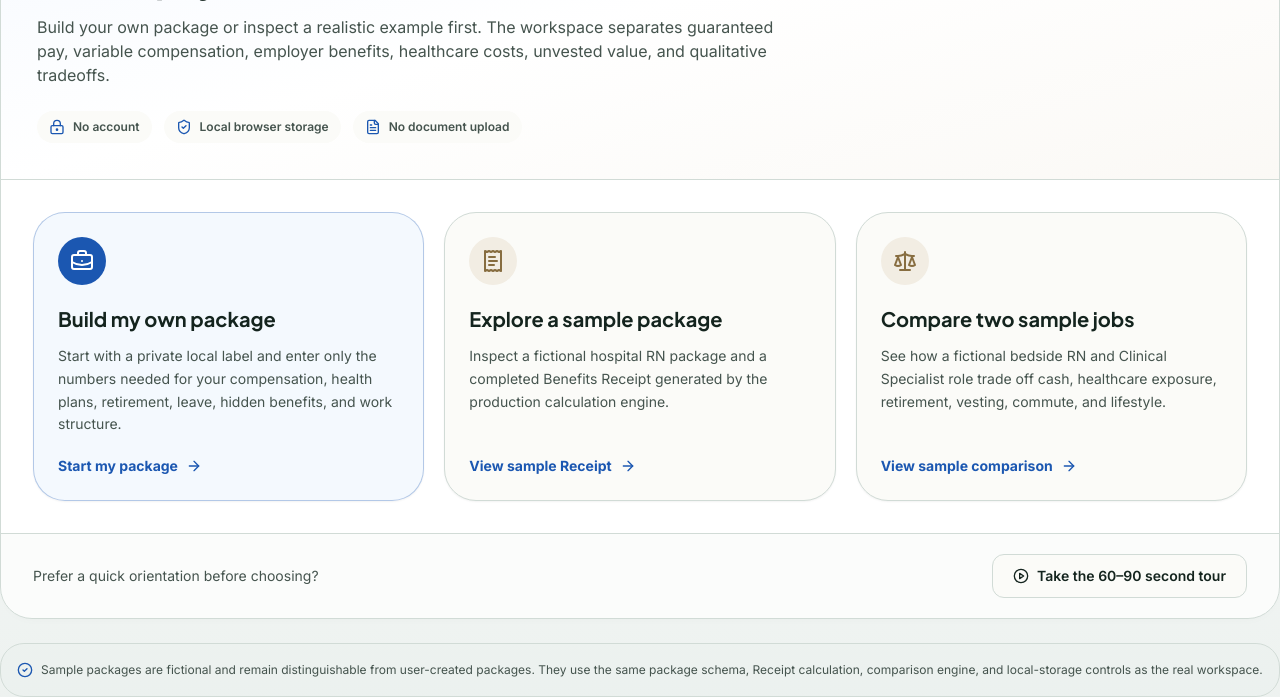
Scenario: BenefitsCommandCenterActivation › offers a keyboard-accessible tour and persists a skipped state
(page scrolled)
Click the button "Take the 60–90 second tour": [1120, 576] box [992, 554, 1247, 598]
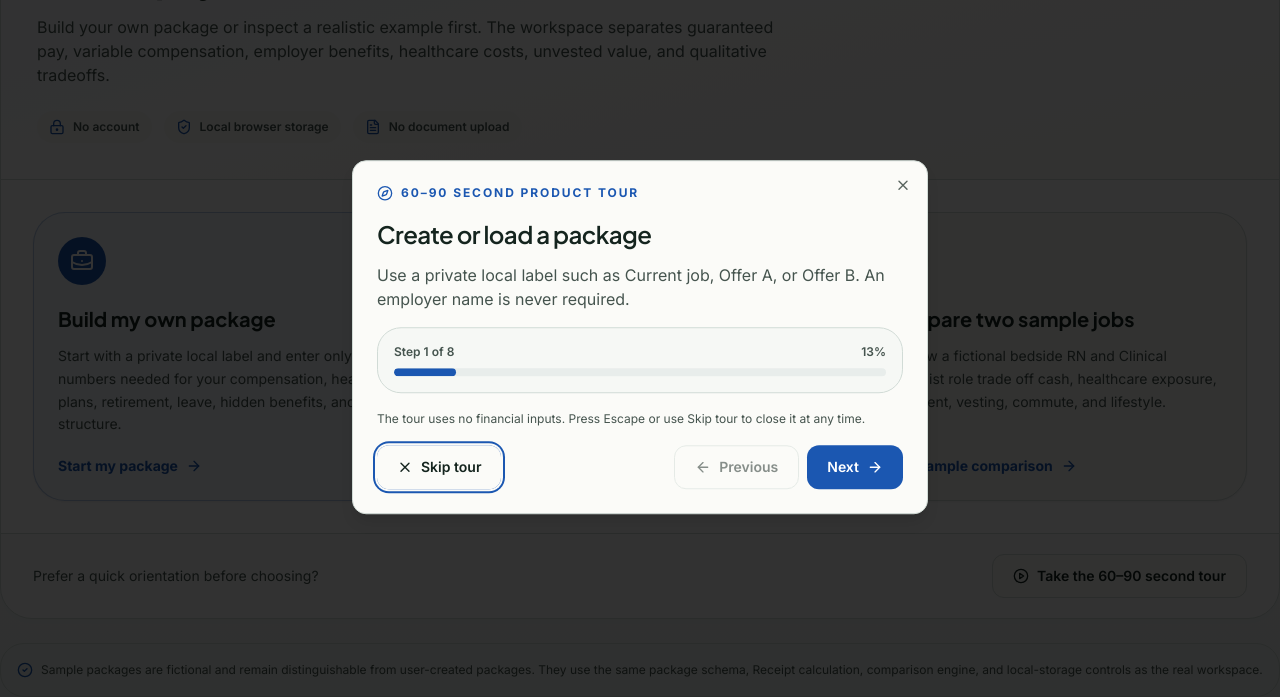
Expected: the dialog is shown, [352, 160, 928, 514]
Click the button "Skip tour": [439, 467] box [377, 445, 502, 489]
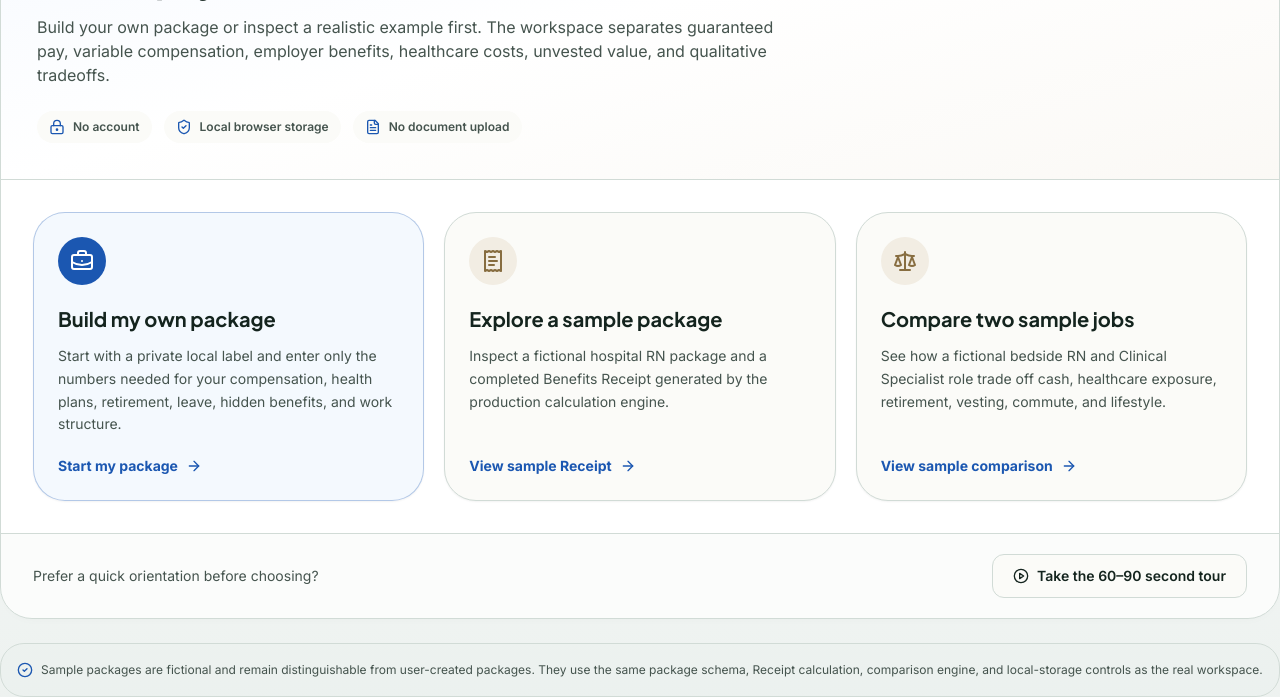
Expected: the dialog is gone
